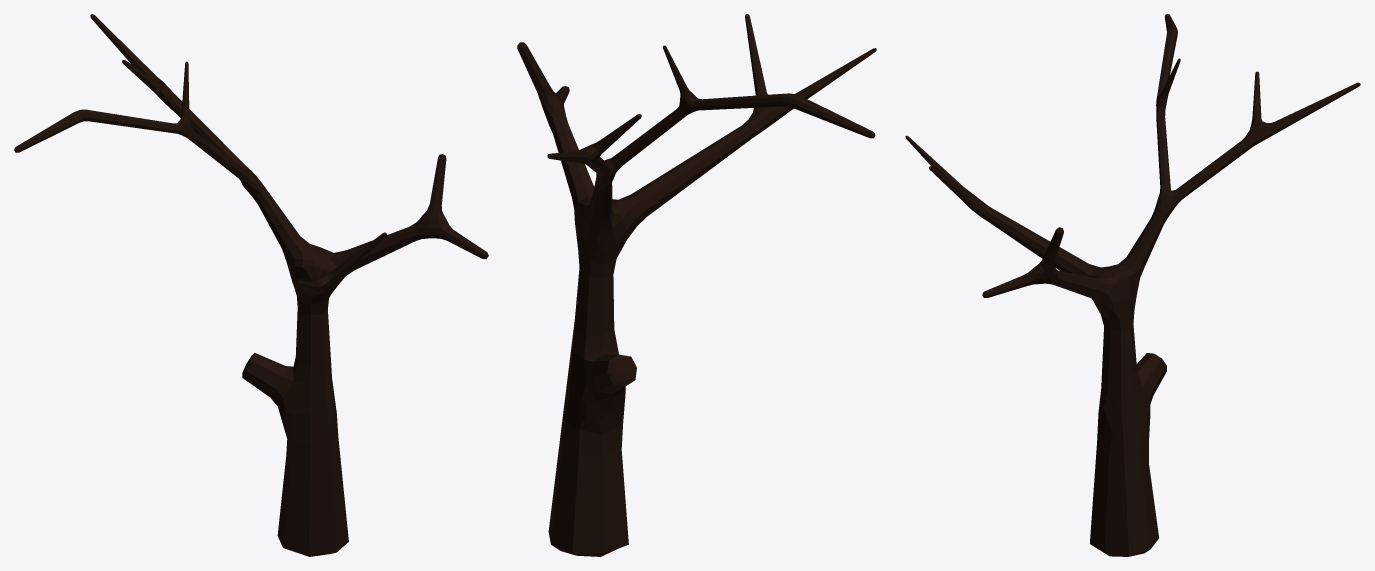
Rendered from SM_Tree12.fbx.
The picture shows the model from 3 angles, left to right: view 1: azimuth 30°, elevation 25°; view 2: azimuth 150°, elevation 25°; view 3: azimuth 270°, elevation 25°; orthographic projection. The views are drawn at different scales.
Visible parts, largest first — view 1: Tree11; view 2: Tree11; view 3: Tree11.
Part boxes in pixels (bbox=[...]): Tree11: bbox=[14, 14, 488, 556]; Tree11: bbox=[517, 14, 876, 556]; Tree11: bbox=[905, 14, 1360, 556].
Size of the model in its own units: 158 by 196 by 181.
